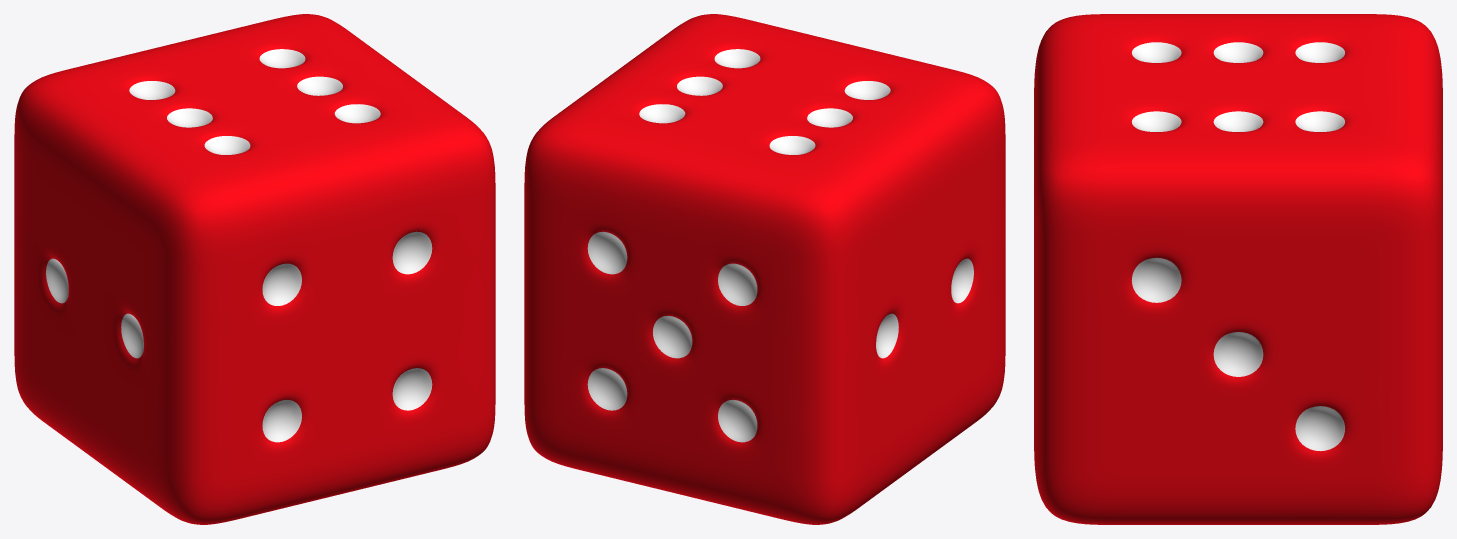
File: Red_Dice.fbx
3 renders of one model, left to right at view 1: azimuth 30°, elevation 25°; view 2: azimuth 150°, elevation 25°; view 3: azimuth 270°, elevation 25°, orthographic. The views are drawn at different scales.
Visible parts, largest first — view 1: Cube; view 2: Cube; view 3: Cube.
Boxes of the visible parts, x1,y1,x2,y2 form: Cube: (14,14,495,524); Cube: (524,14,1005,524); Cube: (1034,14,1442,524).
Size of the model in its own units: 200 by 200 by 200.
